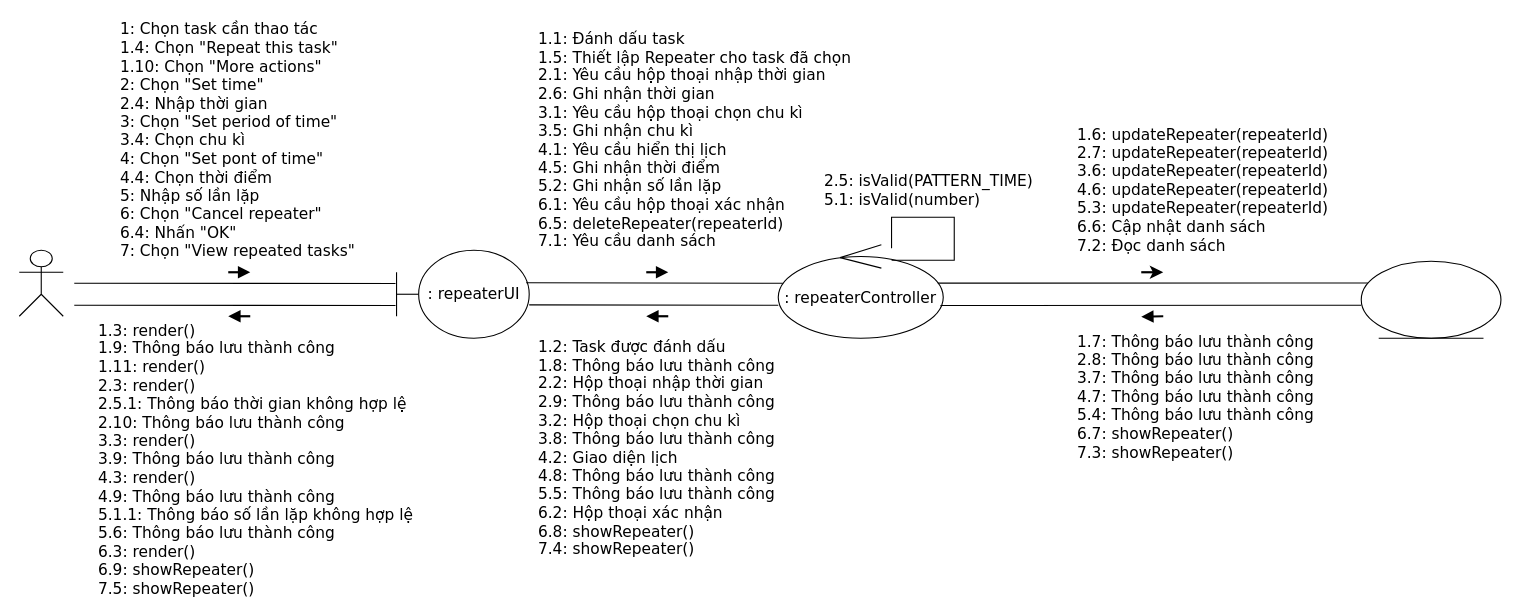
Image size: 1520x616. Some labels were removed from this diagram. Each missing label, with the centre of its shape:
": repeaterDB" goes at point 1430,299.
"User" goes at point 40,282.
